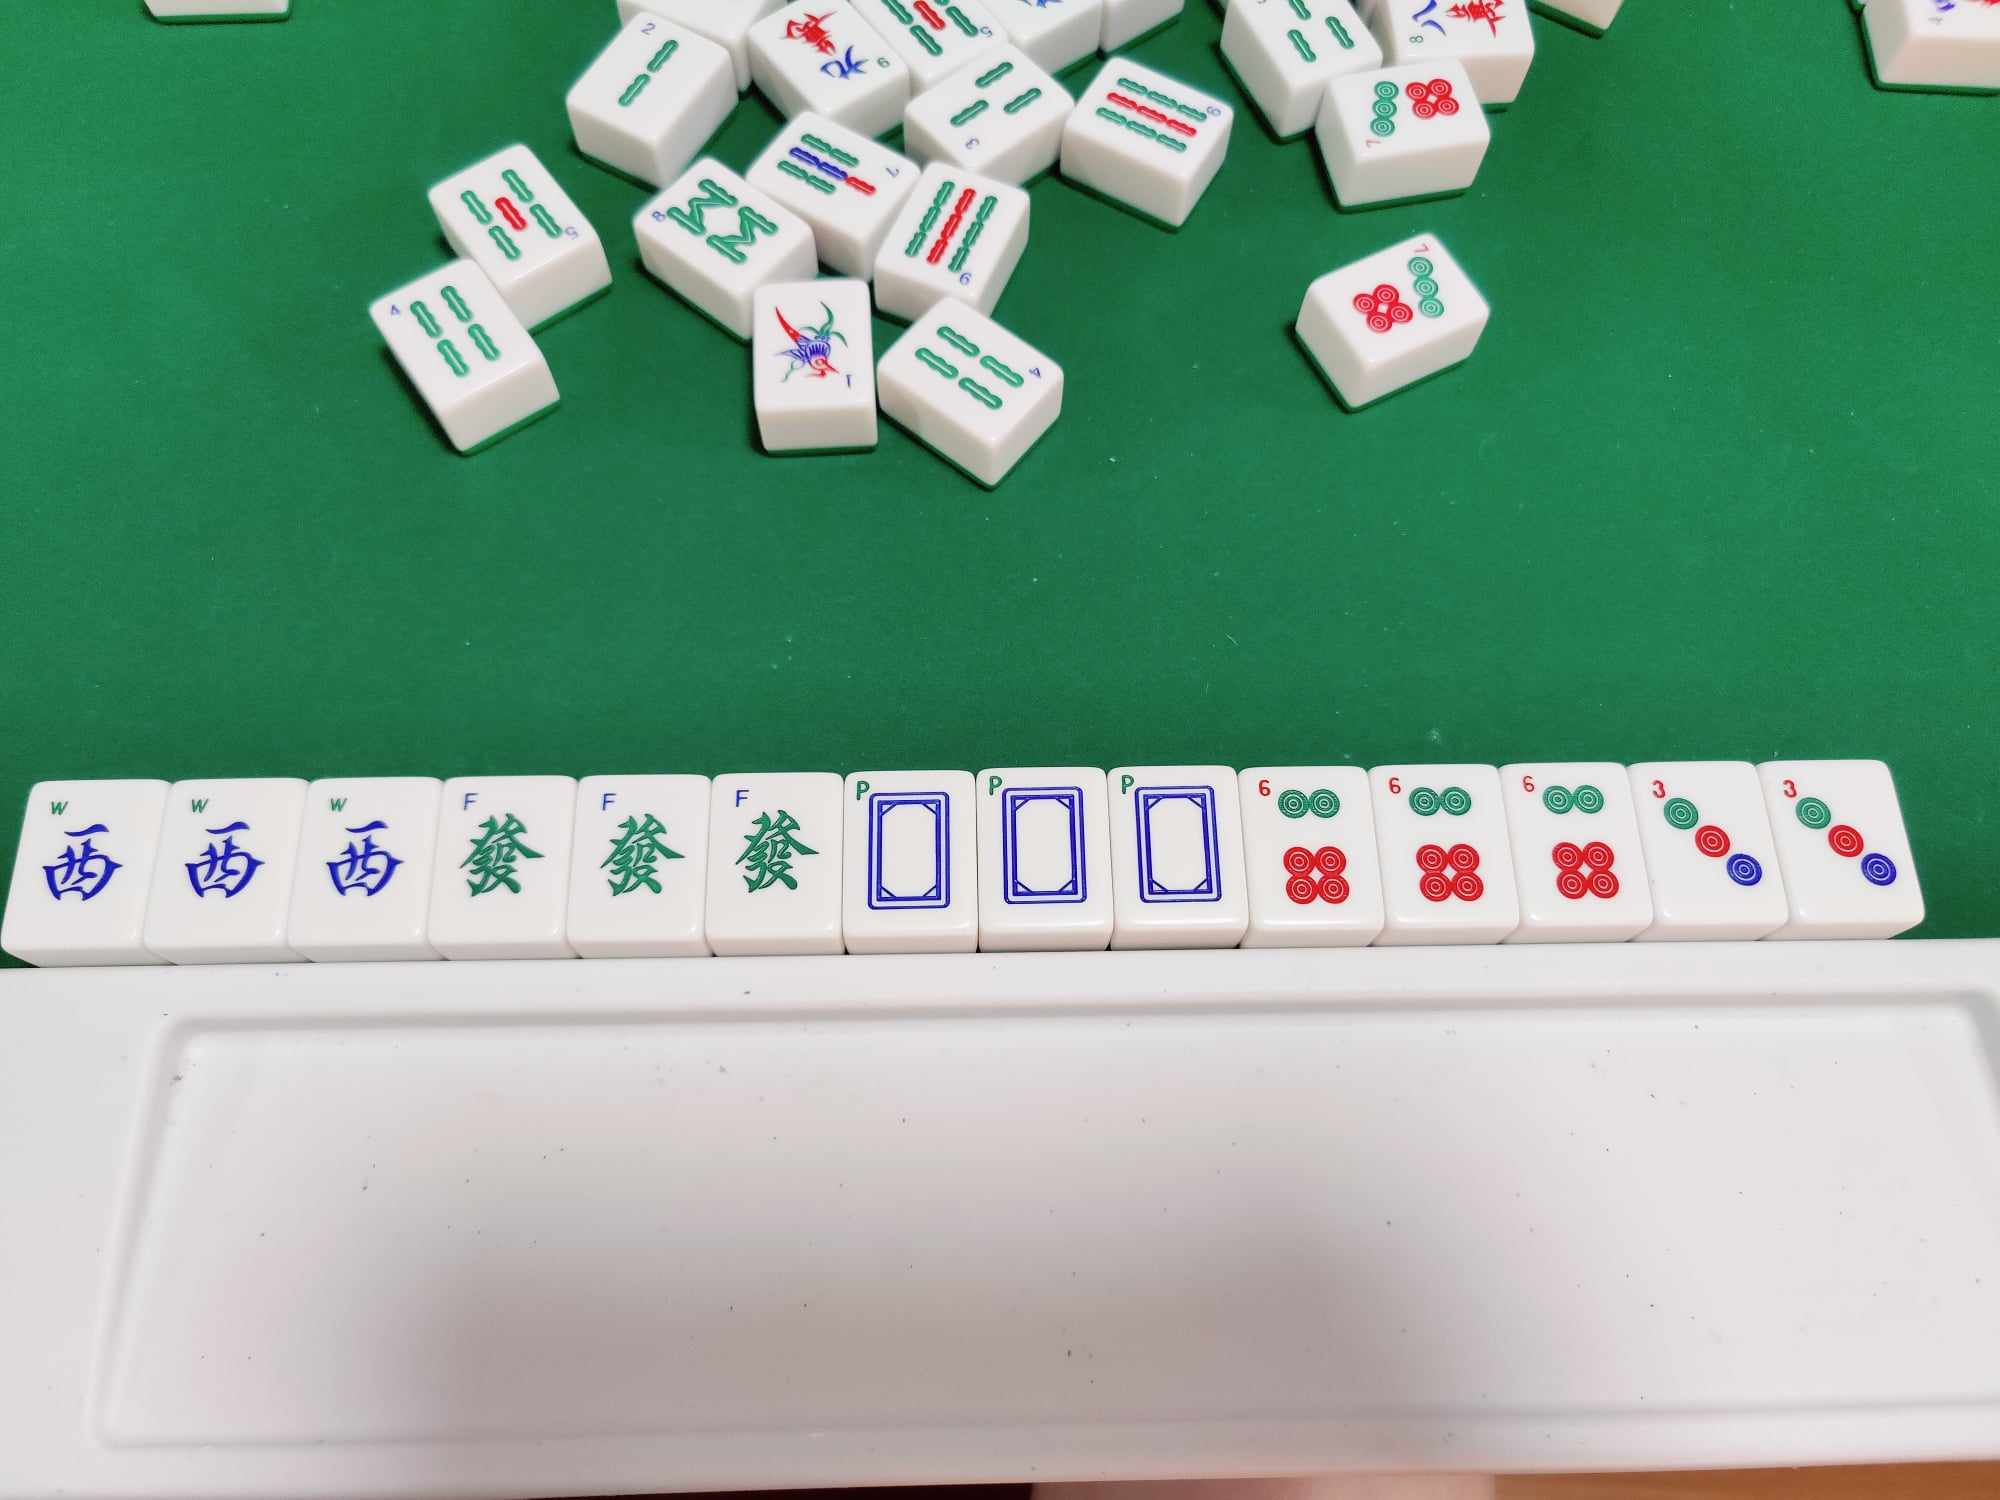circle-six: (1250, 770, 1376, 922), (1387, 770, 1506, 915), (1518, 770, 1628, 911)
circle-three: (1778, 769, 1902, 901), (1649, 775, 1765, 898)
honor-blue_dragon: (847, 777, 969, 933), (1117, 767, 1236, 922), (983, 775, 1101, 920)
honor-green_dragon: (441, 785, 557, 926), (715, 782, 831, 911), (584, 788, 690, 922)
honor-west_wind: (35, 791, 132, 931), (310, 791, 416, 919), (176, 788, 272, 926)
